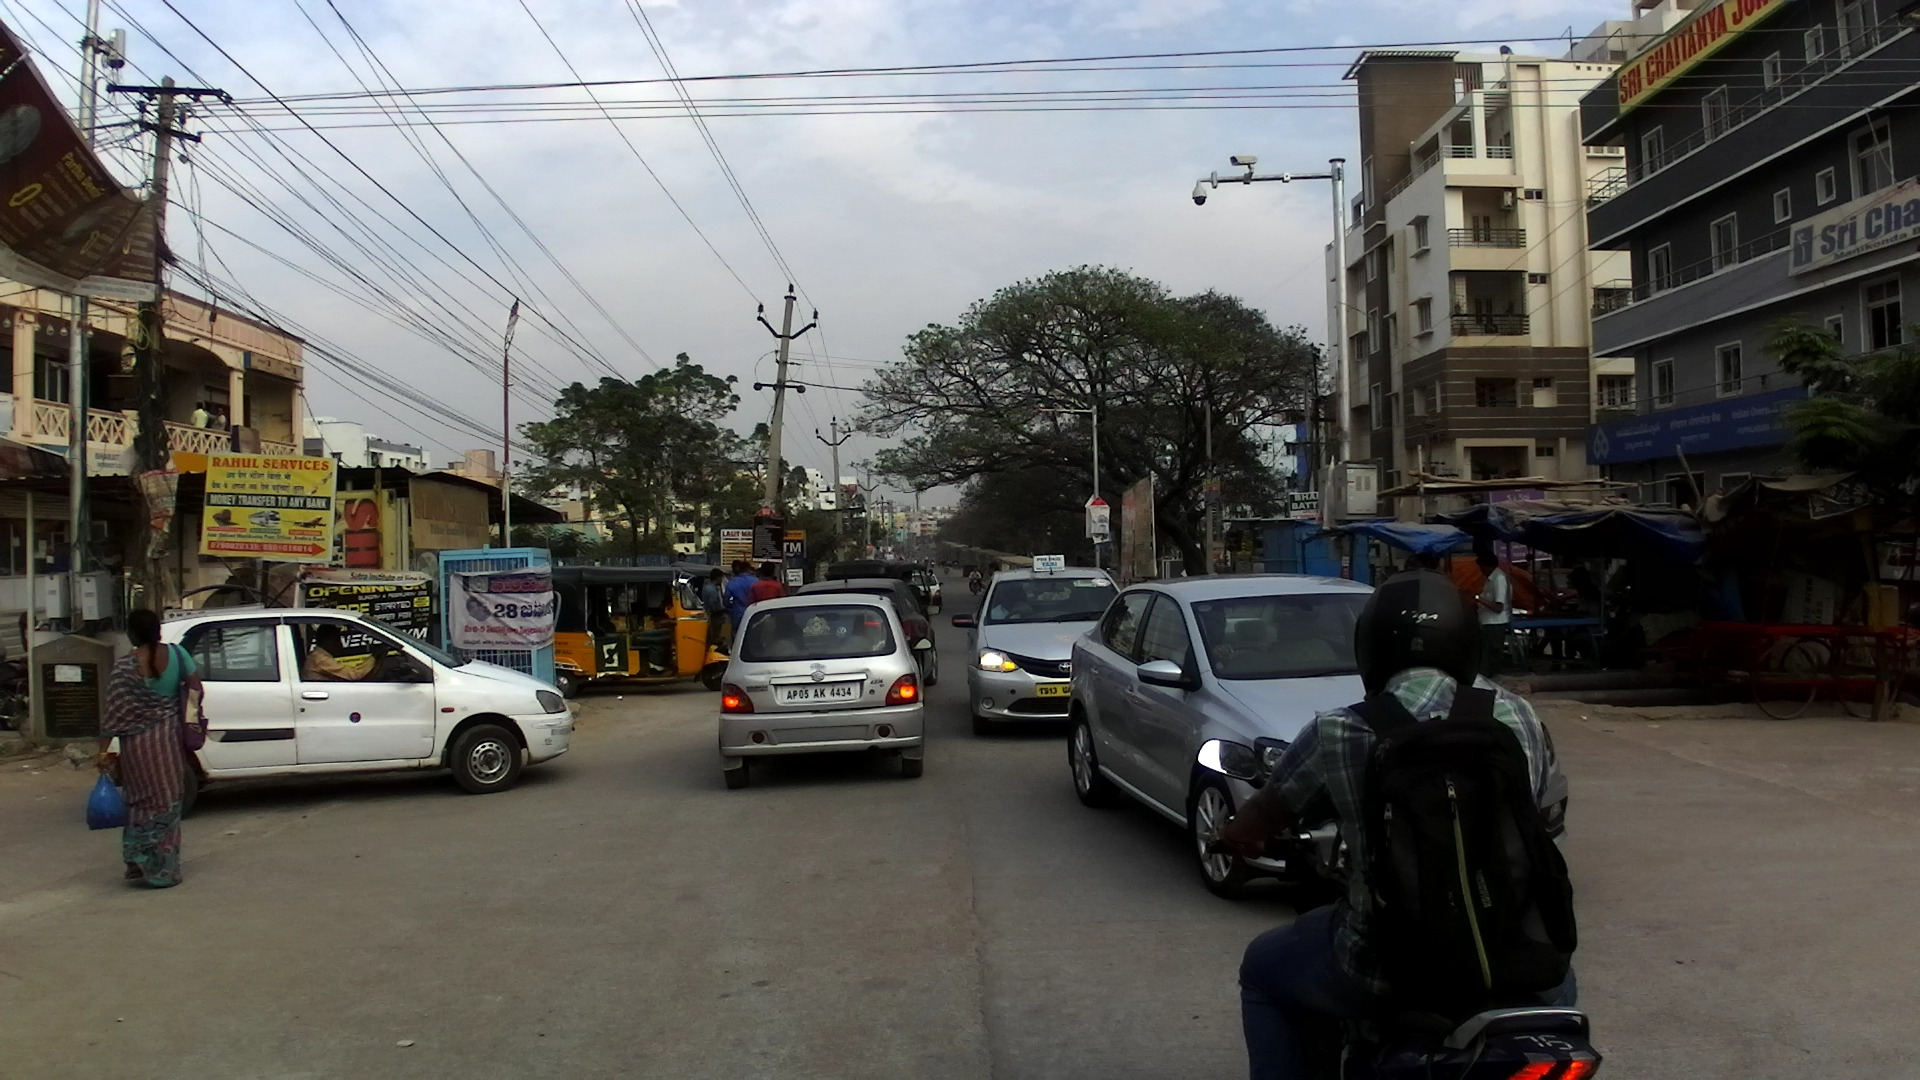autorickshaw: (551, 564, 729, 698), (823, 558, 933, 625), (669, 562, 738, 650)
car: (1068, 573, 1470, 898), (105, 608, 574, 819), (716, 593, 932, 789), (952, 554, 1121, 735), (794, 565, 937, 687), (915, 570, 943, 614)
motorcycle: (1191, 736, 1603, 1080), (1, 650, 31, 733), (969, 577, 983, 595), (945, 567, 949, 574), (924, 559, 929, 563), (931, 562, 935, 566)
person: (85, 608, 208, 889), (1469, 550, 1511, 684), (1565, 567, 1606, 667), (722, 558, 755, 657), (705, 568, 732, 652), (747, 563, 785, 606), (190, 399, 209, 431), (210, 405, 228, 431), (987, 559, 999, 581), (730, 560, 745, 576), (872, 543, 884, 561), (675, 551, 689, 563), (1075, 554, 1084, 567), (749, 566, 756, 577), (755, 567, 762, 577)
rider: (1230, 571, 1573, 1080), (969, 565, 983, 594), (943, 562, 949, 569), (930, 557, 936, 562), (924, 554, 929, 561)
vehicle fallback: (1689, 485, 1911, 719), (1503, 526, 1608, 674), (1613, 570, 1643, 672), (959, 546, 984, 578)
